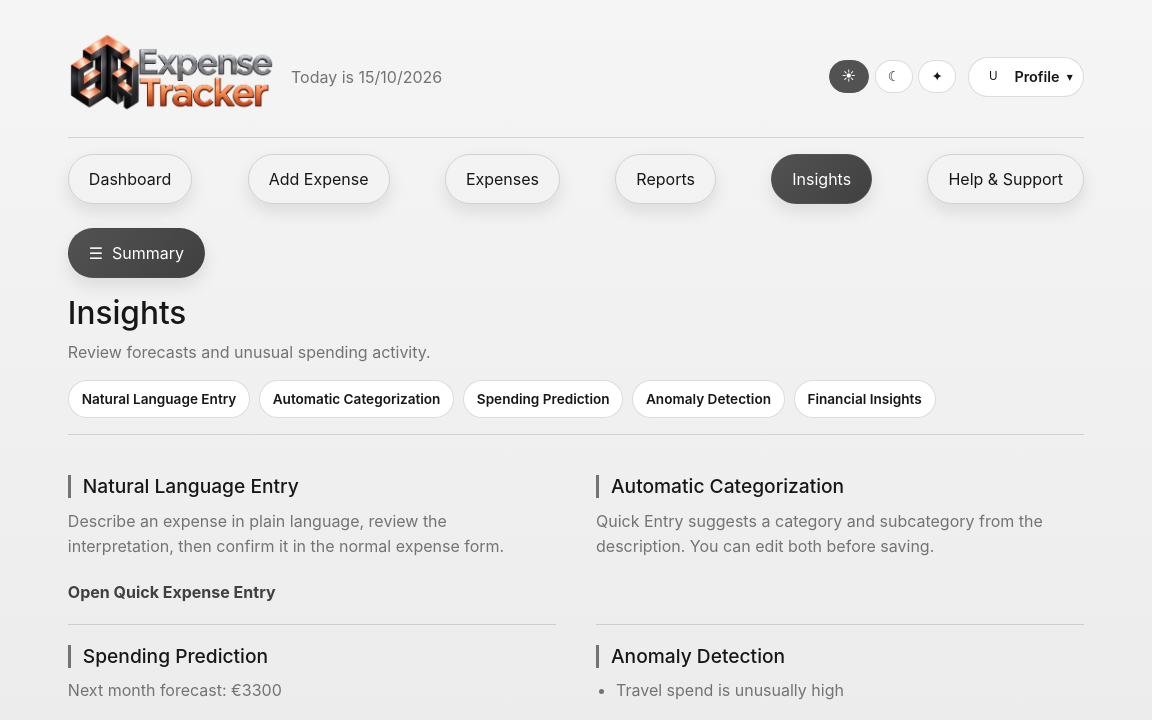
Test: Reports and insights integration tests › navigates from the dashboard to the reports page and renders the export section
Click the button "Reports": (666, 179) [615,154,716,204]
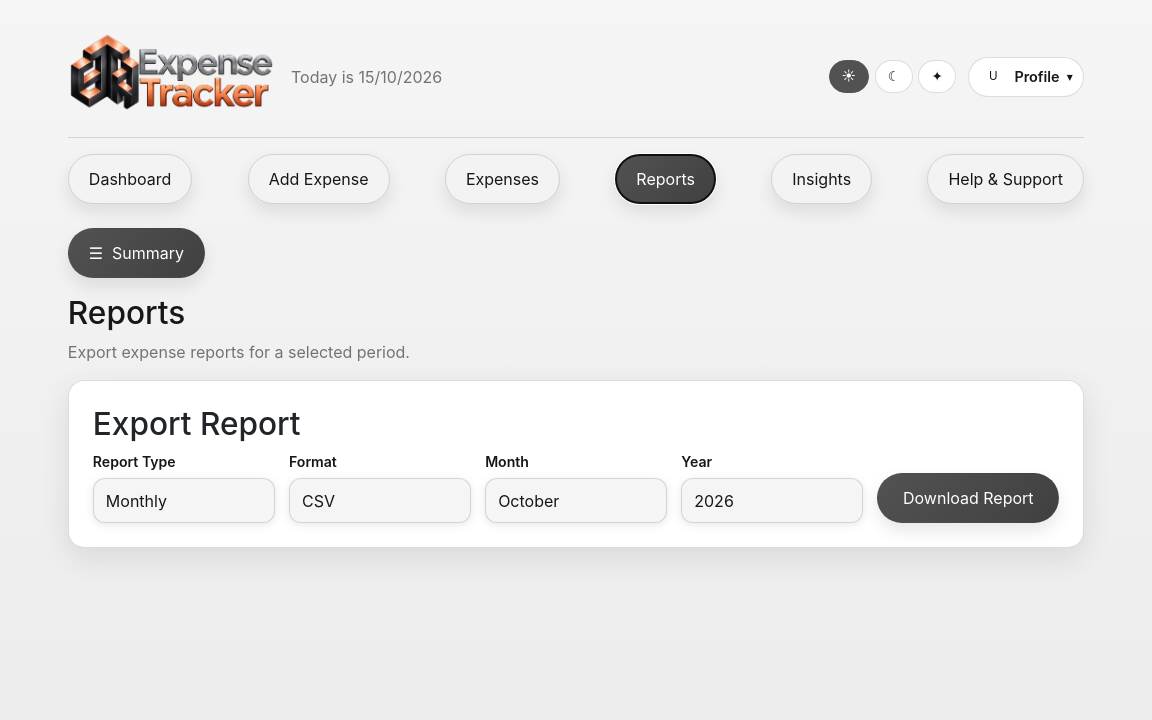
Expected: the heading "Reports" is shown, [68,293,185,332]
Expected: the text "Export expense reports for a selected period." is shown, [68,342,410,362]
Expected: the button "Download Report" is shown, [877,473,1059,523]
